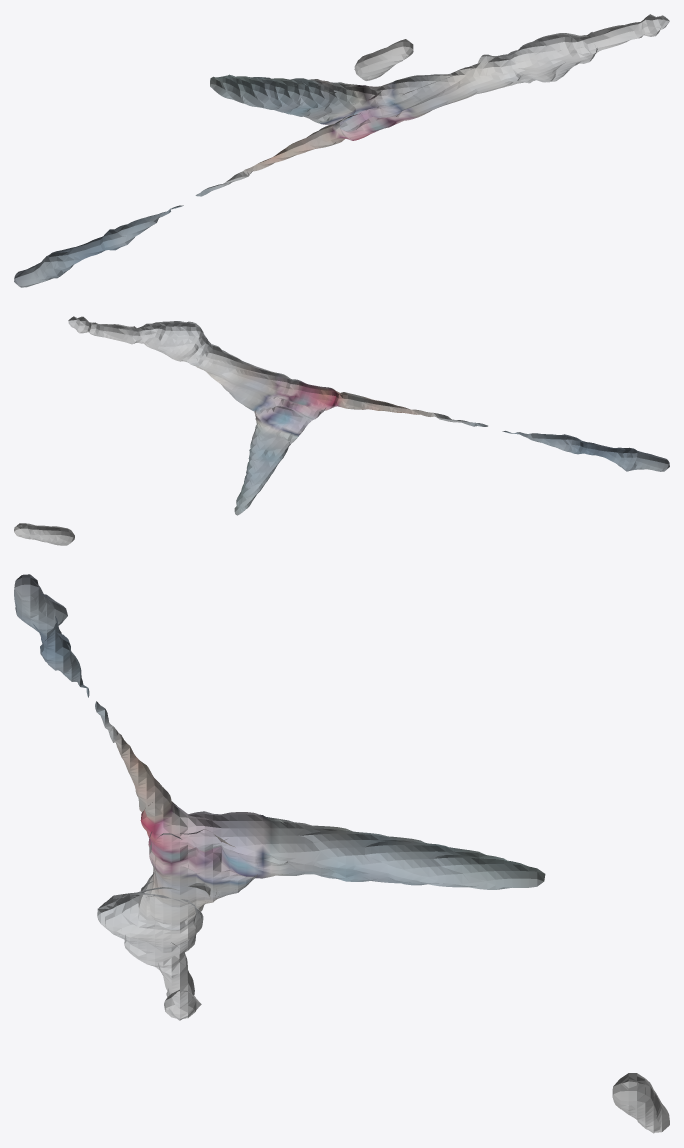
File: marx_house.glb
3 views of the same model, one above another, from view 1: azimuth 30°, elevation 25°; view 2: azimuth 150°, elevation 25°; view 3: azimuth 270°, elevation 25° (orthographic). The views are drawn at different scales.
Visible parts, largest first — view 1: geometry_0; view 2: geometry_0; view 3: geometry_0.
Boxes of the visible parts, bbox=[...] form: geometry_0: bbox=[14, 14, 669, 287]; geometry_0: bbox=[14, 316, 669, 545]; geometry_0: bbox=[14, 574, 669, 1133].
Bounding box in the file's own units: 0.9853 × 0.2038 × 0.5386.
